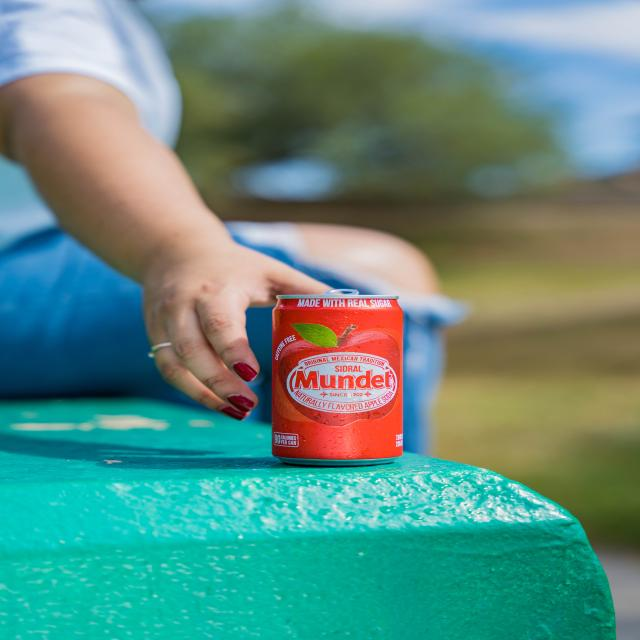can: (270, 294, 406, 467)
